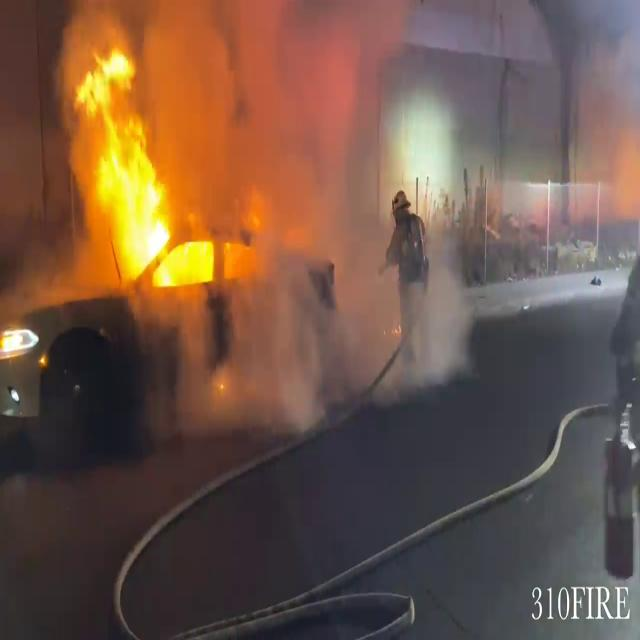Fire: (74, 40, 247, 300), (0, 321, 32, 362)
Smoke: (165, 1, 428, 422), (0, 2, 107, 304)
